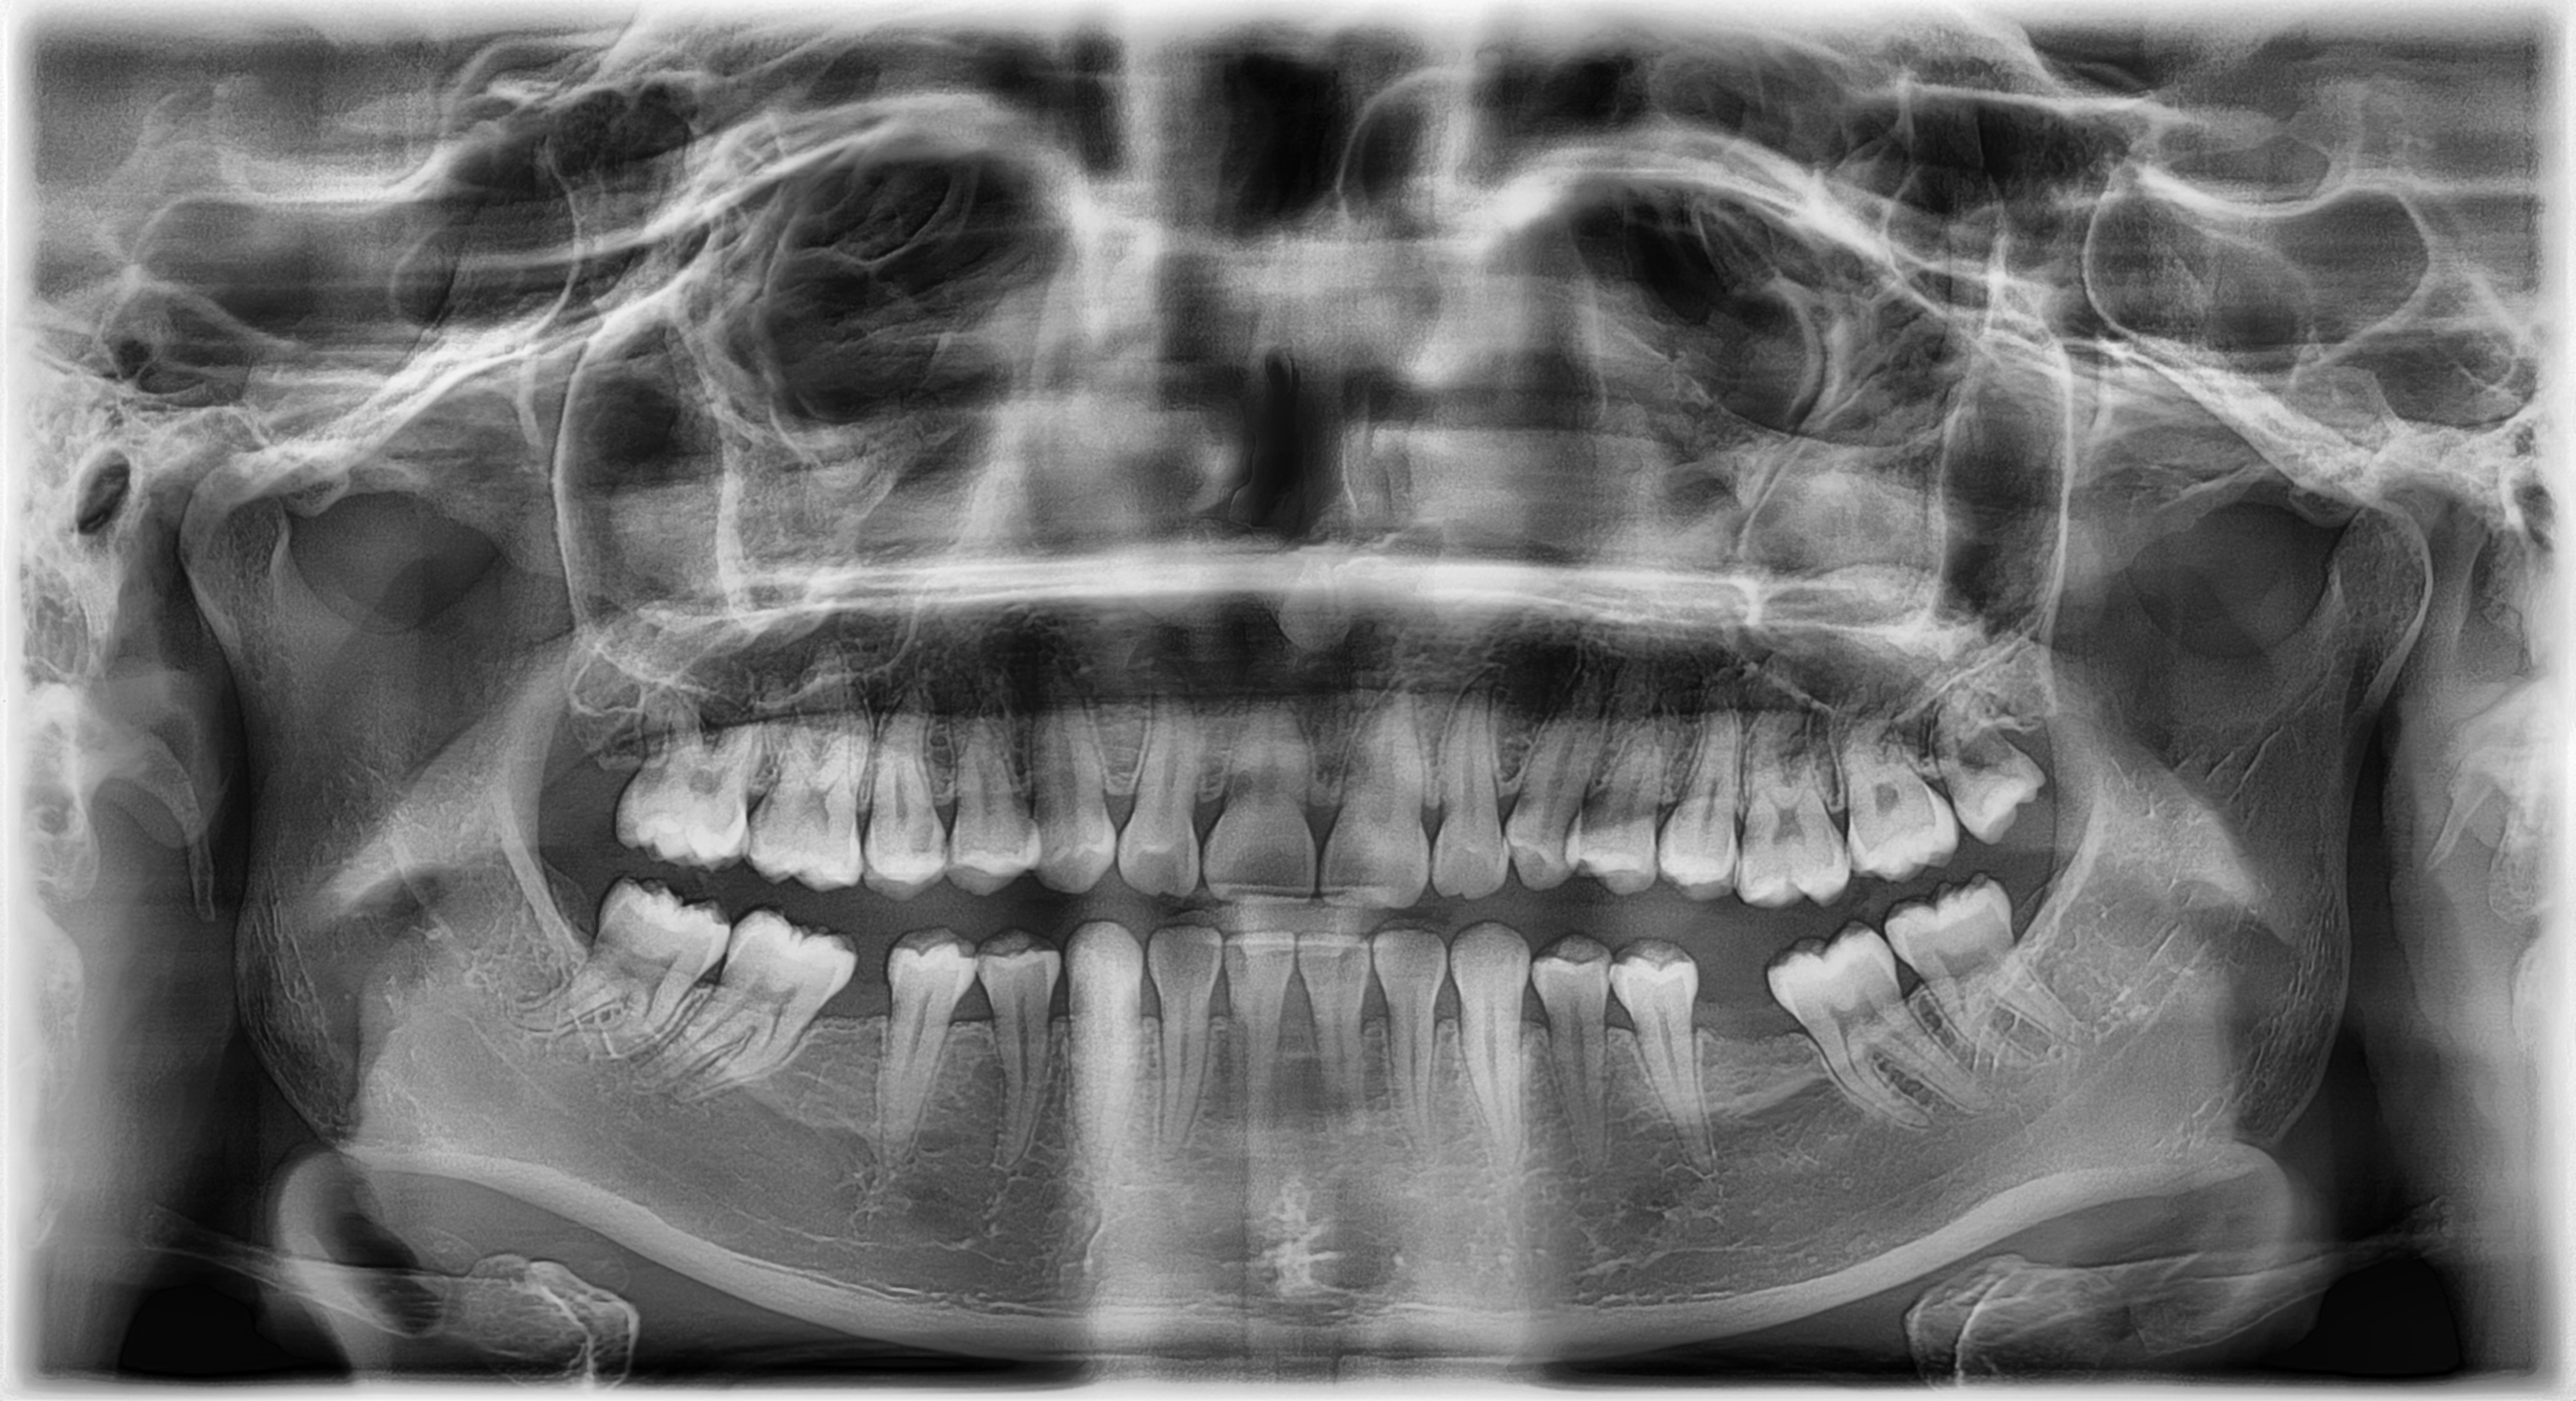cordal: (1912, 656, 2102, 866)
diastema: (804, 901, 908, 1135)
zona_dentula: (1668, 913, 1846, 1159)
